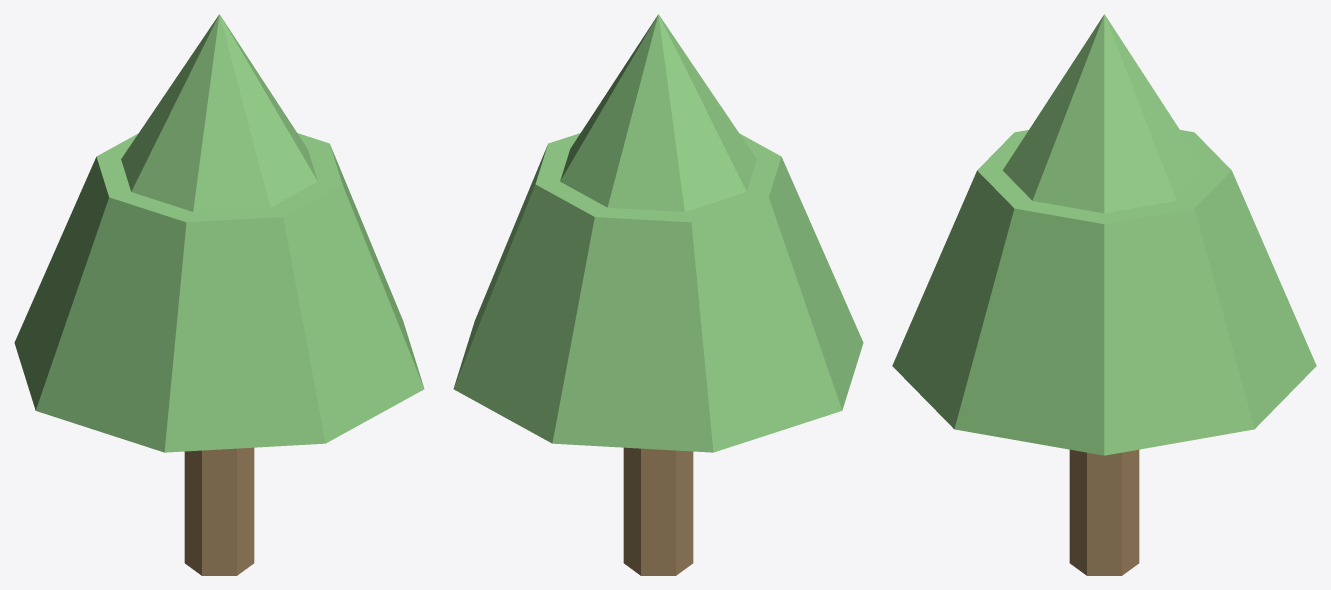
File: tree_variant_2.glb
3 views of the same model, side by side, from view 1: azimuth 30°, elevation 25°; view 2: azimuth 150°, elevation 25°; view 3: azimuth 270°, elevation 25° (orthographic).
Visible parts, largest first — view 1: Tree_v2; view 2: Tree_v2; view 3: Tree_v2.
Boxes of the visible parts, x1=… form: Tree_v2: x1=14, y1=14, x2=424, y2=575; Tree_v2: x1=453, y1=14, x2=863, y2=575; Tree_v2: x1=892, y1=14, x2=1316, y2=575.
Size of the model in its own units: 1.19 by 1.7 by 1.19.
